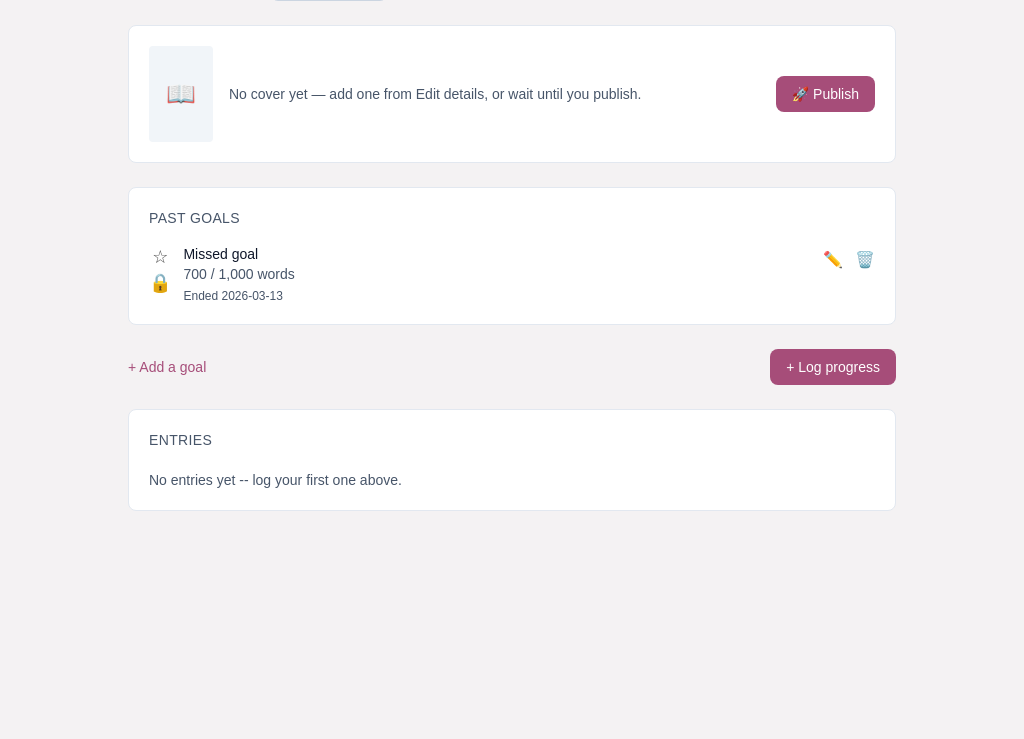
Test case: goal row controls on the project page › opens a missed goal for editing, and Cancel closes it
Click the button named "Edit goal".
click(833, 260)  # box [823,248,843,272]
(page scrolled)
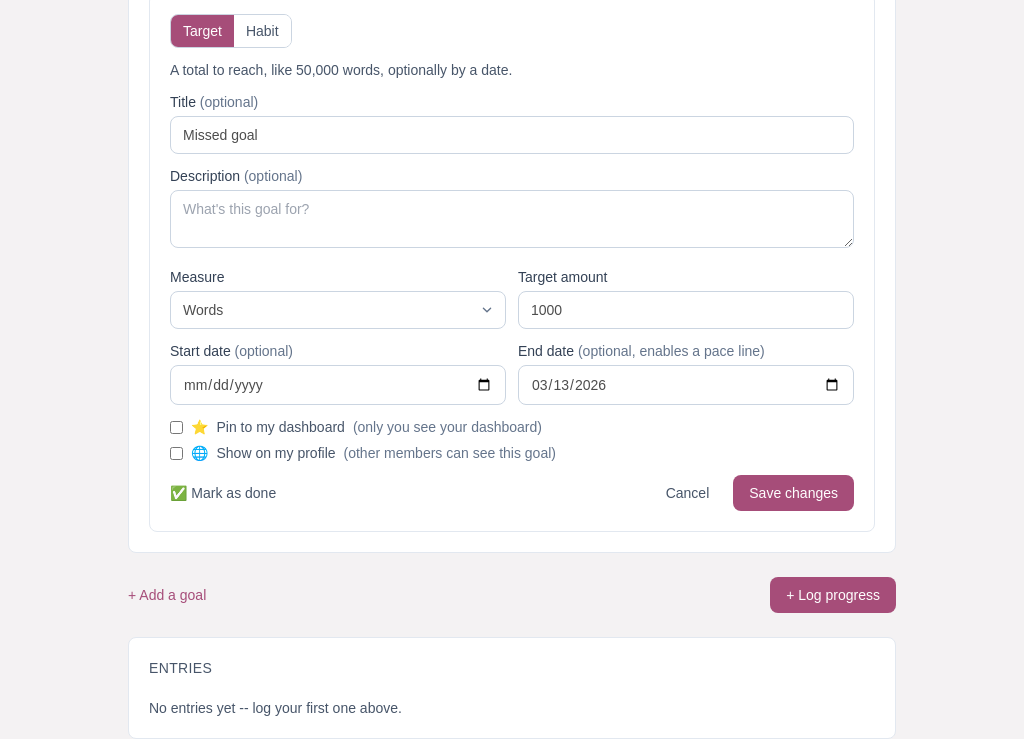
expect the button "Save changes" is shown: met, box [733,475,854,511]
Click the button "Cancel".
click(688, 493)  # box [650,475,725,511]
(page scrolled)
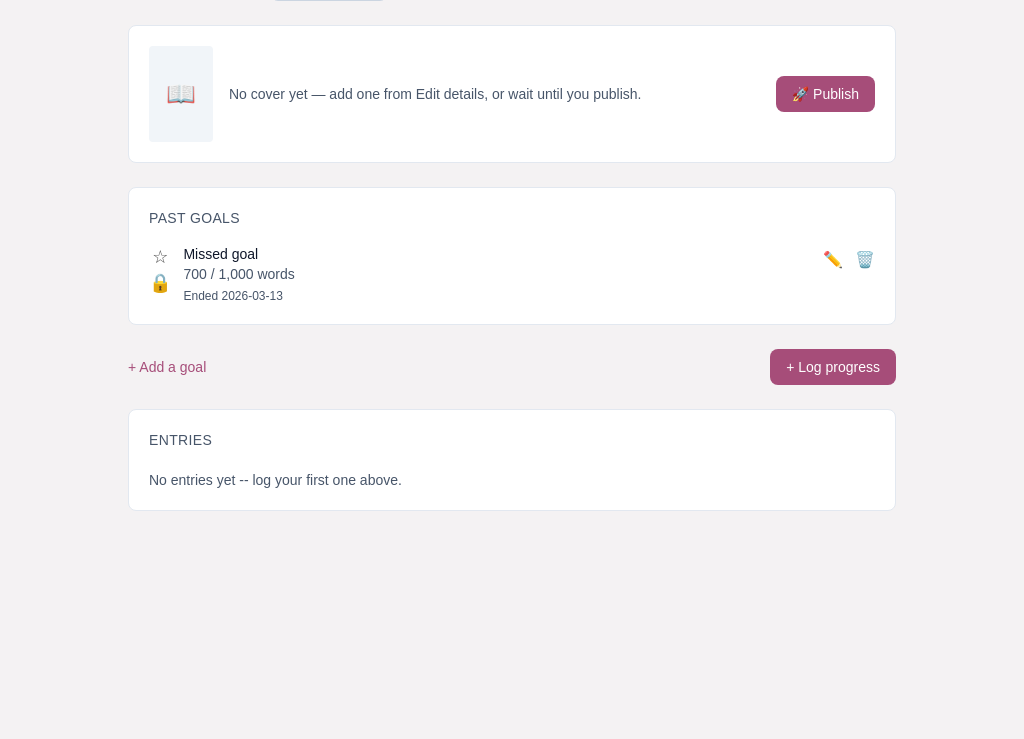
expect the button "Save changes" is gone: met
expect the text "Missed goal" is shown: met, box [184,246,258,262]
